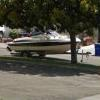Boat: (4, 29, 85, 61)
